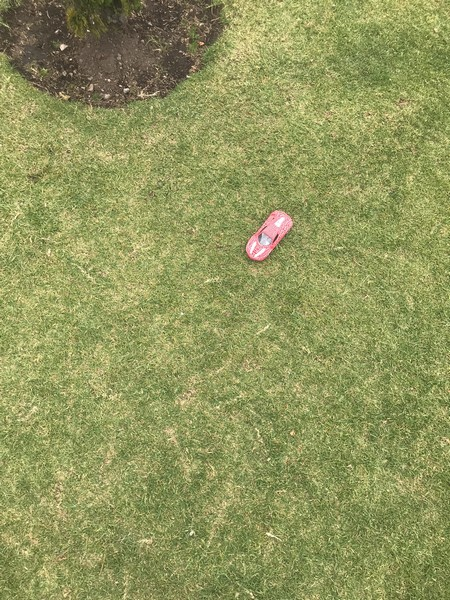RC: (240, 207, 294, 263)
